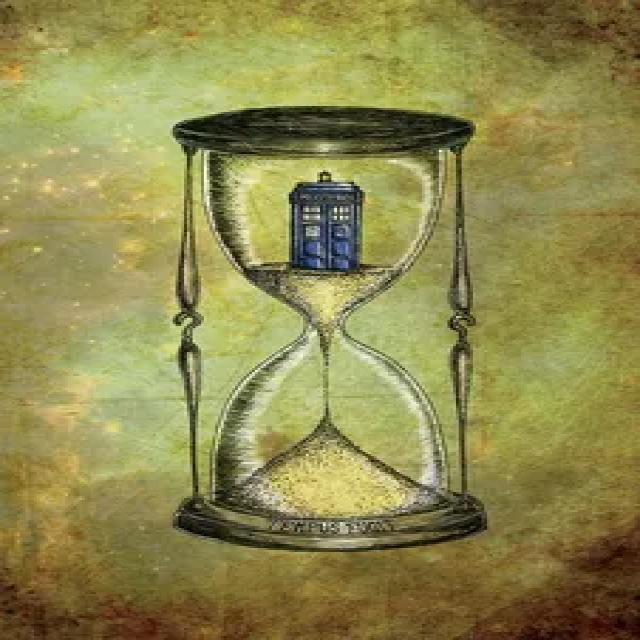clock: (157, 102, 492, 557)
